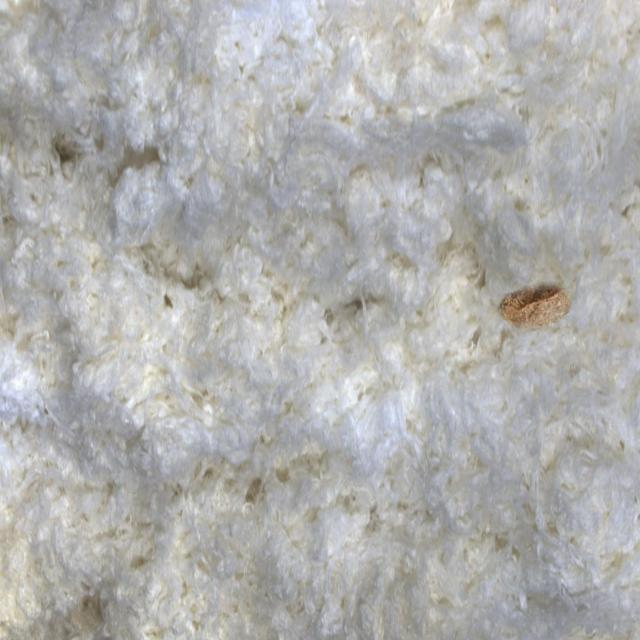dust: (468, 238, 591, 376)
